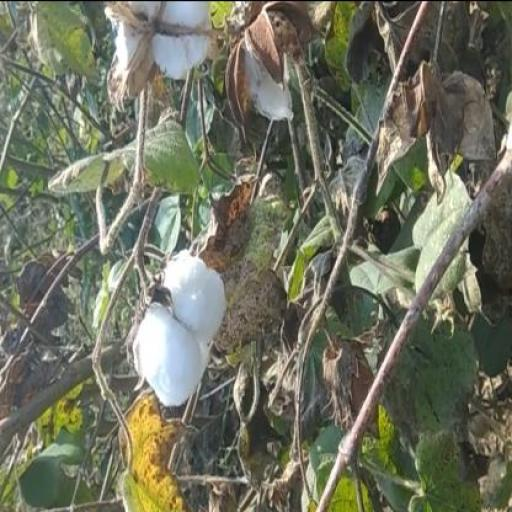cotton_ready: (123, 244, 227, 400)
